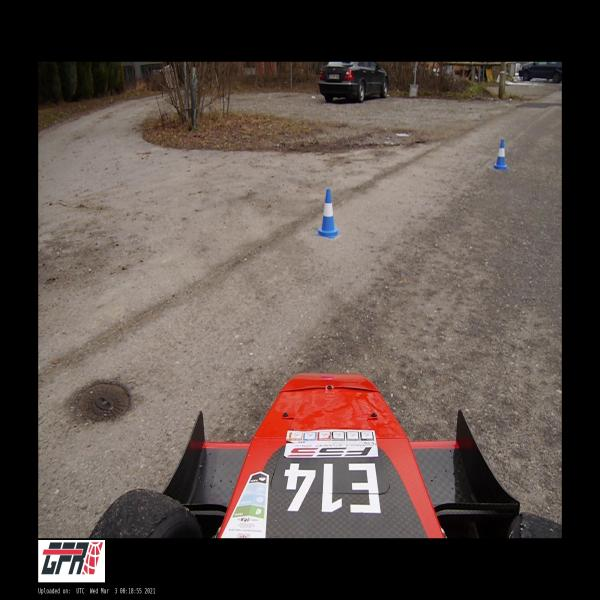blue_cone: (315, 188, 340, 238), (492, 139, 508, 170)
